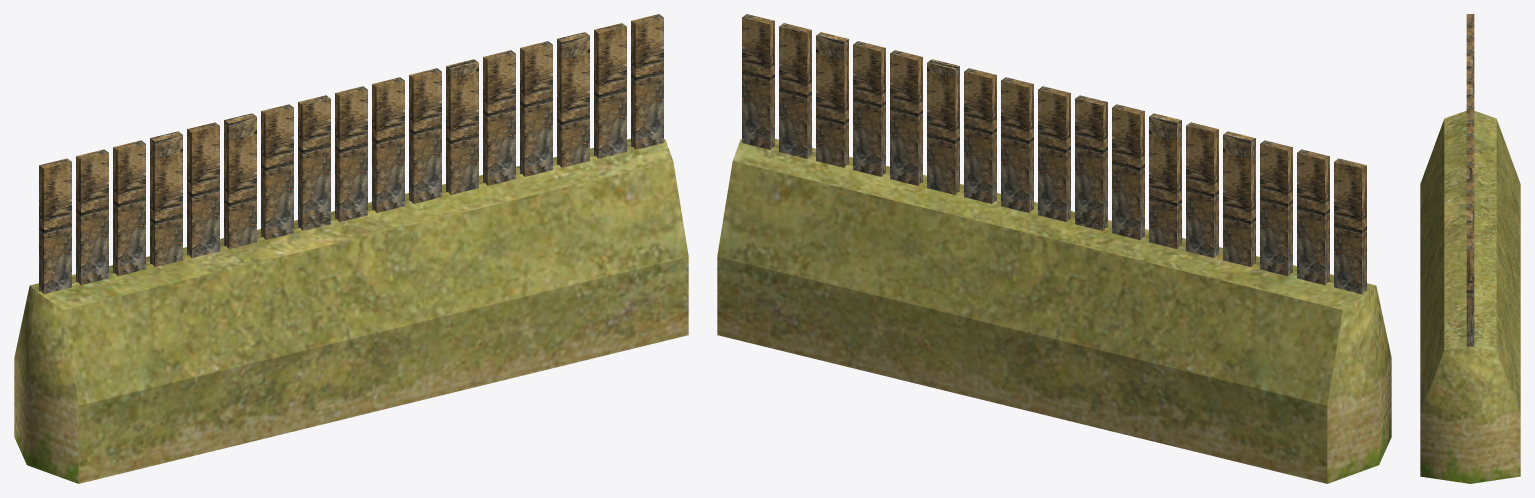
Rendered from tupis_wall_long.dae.
The picture shows the model from 3 angles, left to right: view 1: azimuth 30°, elevation 25°; view 2: azimuth 150°, elevation 25°; view 3: azimuth 270°, elevation 25°; orthographic projection. The views are drawn at different scales.
Parts seen in each view (by area): view 1: wall_tupi_long; view 2: wall_tupi_long; view 3: wall_tupi_long.
Part boxes in pixels (x1=…): wall_tupi_long: x1=14, y1=14, x2=688, y2=483; wall_tupi_long: x1=717, y1=14, x2=1391, y2=483; wall_tupi_long: x1=1420, y1=14, x2=1520, y2=483.
Bounding box in the file's own units: 33.71 × 5.8 × 14.62.
Materials: 1 (1 with a texture image).
